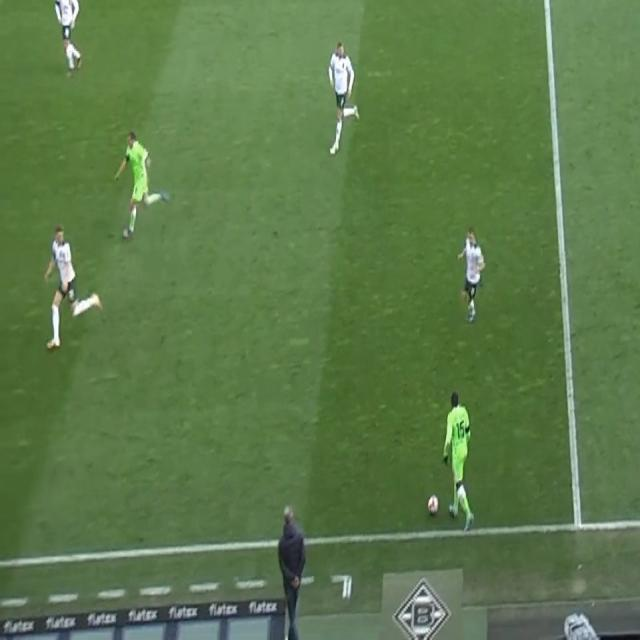ball: (427, 493, 440, 517)
